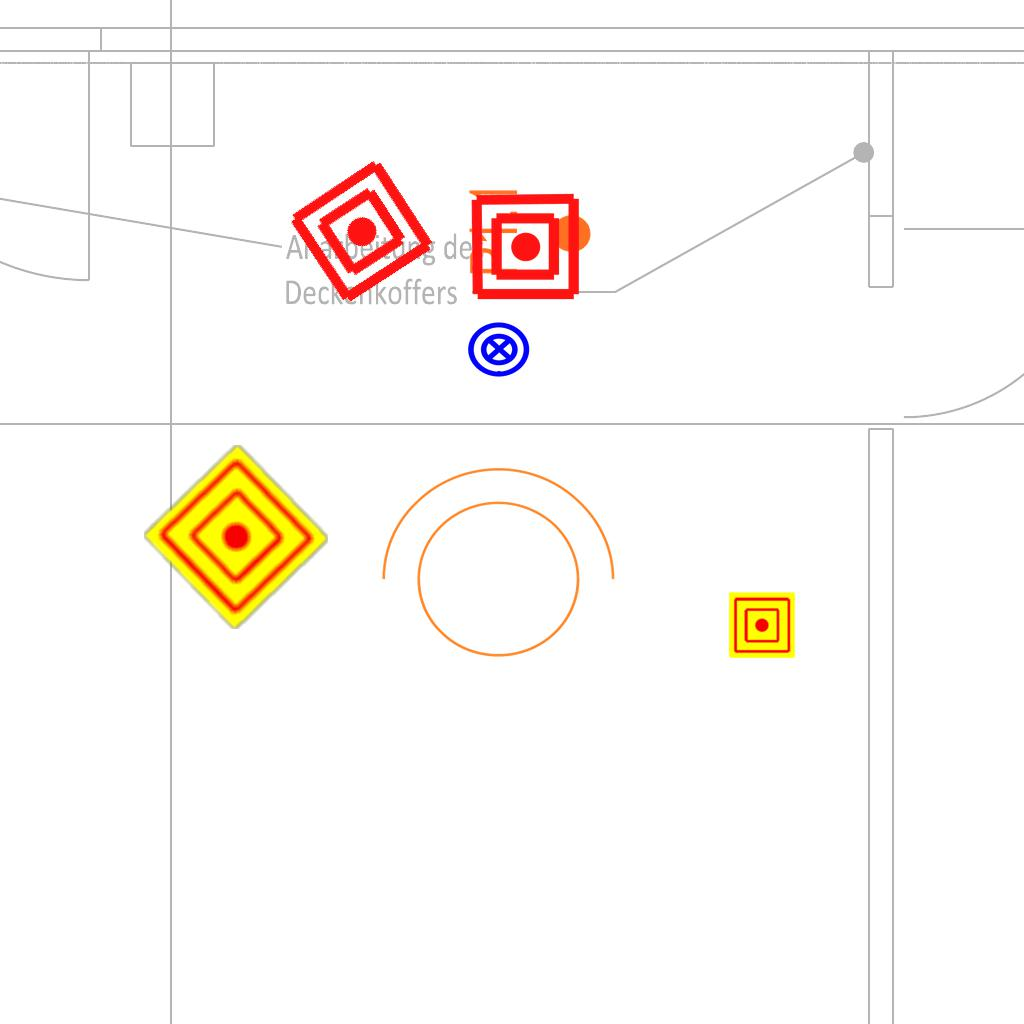Downlight_LED_Einbauleuchten_Flur: (466, 184, 594, 277)
NAM-Nichtautomatischer_Melder: (142, 443, 330, 631), (283, 153, 440, 310), (469, 190, 582, 303), (729, 592, 795, 658)
Scheinwerfer_fuer_Alarmbeleuchtung: (360, 457, 624, 682)
Taster_beleuchtet: (466, 316, 532, 382)
